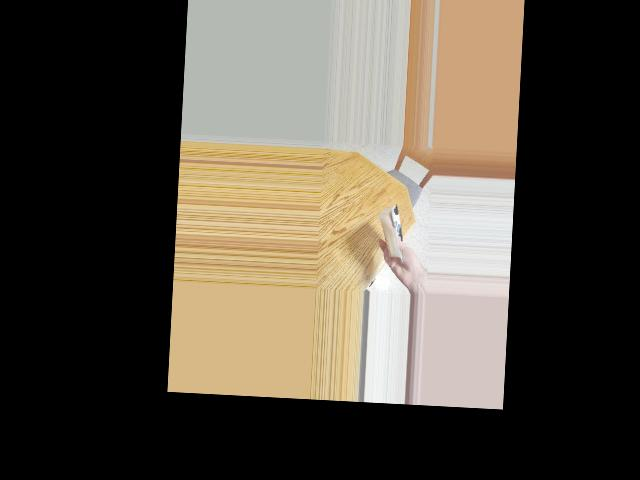cheese: (371, 205, 417, 259)
